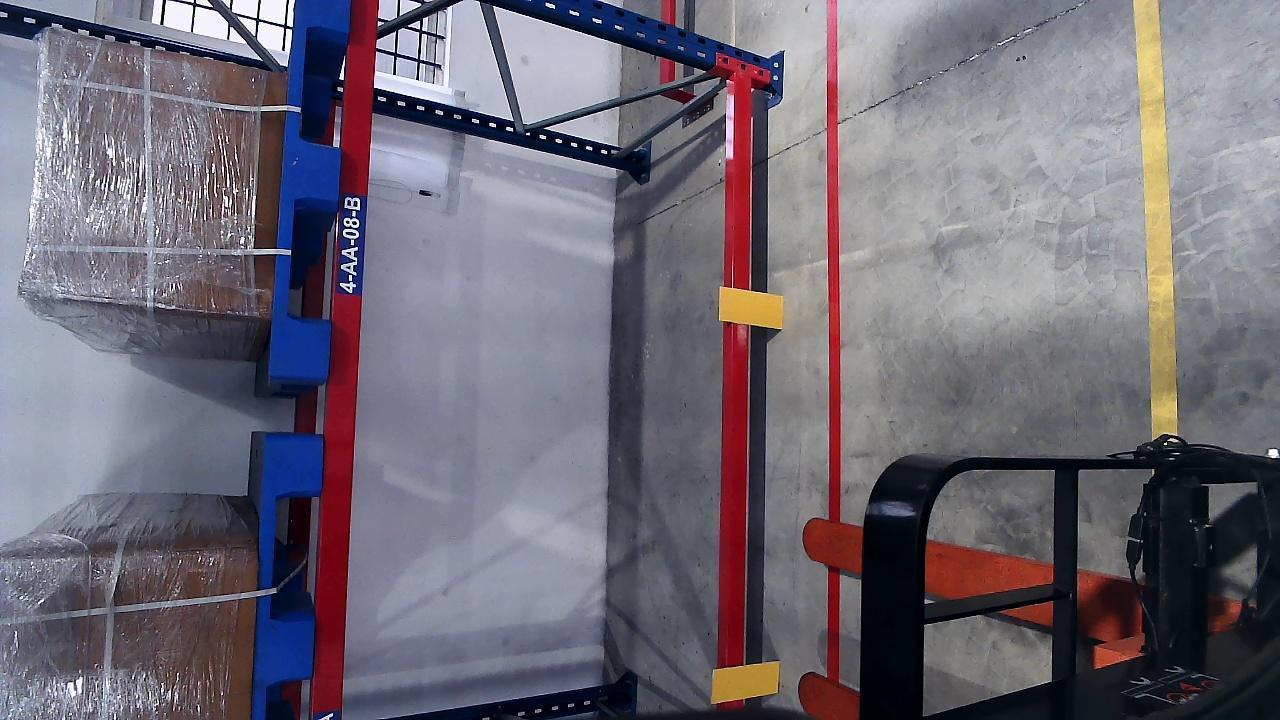red_line: (822, 4, 844, 514)
yellow_line: (1134, 0, 1181, 436)
